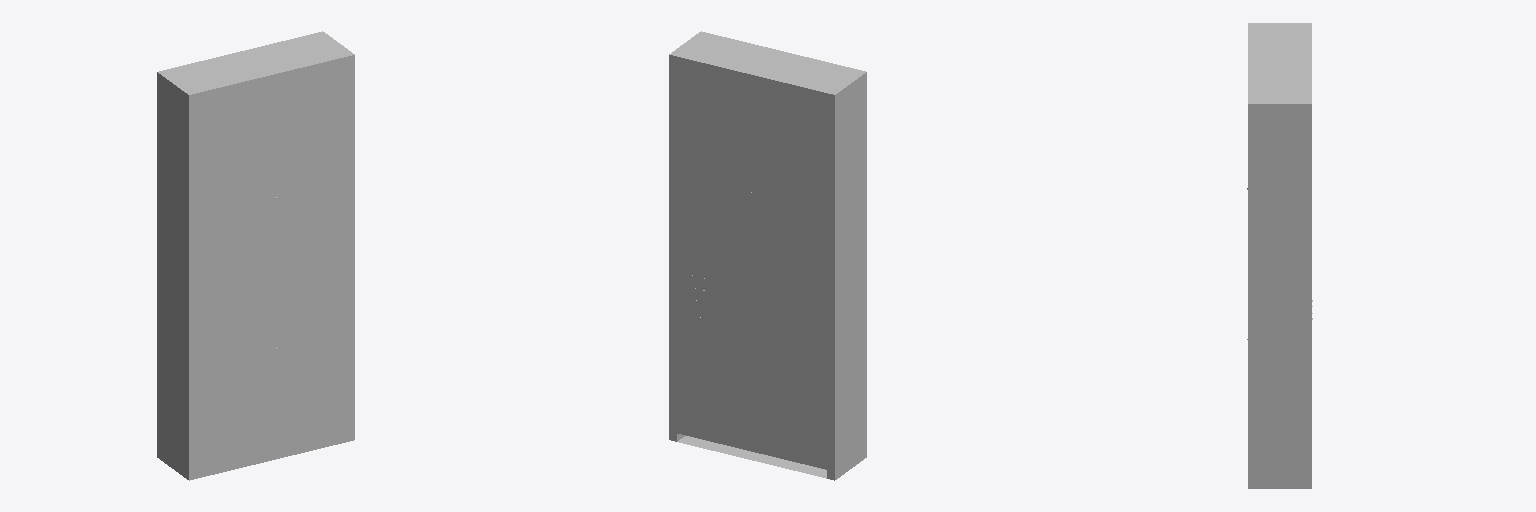
Rendered from room.obj.
The picture shows the model from 3 angles: view 1: azimuth 30°, elevation 25°; view 2: azimuth 150°, elevation 25°; view 3: azimuth 270°, elevation 25°; orthographic projection.
Parts seen in each view (by area): view 1: S_RoomCeiling, S_RoomWalls.001; view 2: S_RoomFloor, S_RoomWalls.001; view 3: S_RoomWalls.001.
Boxes of the visible parts, box(x1,y1,x2,y2) form: S_RoomCeiling: box(195, 59, 350, 475); S_RoomWalls.001: box(157, 31, 354, 480); S_RoomFloor: box(673, 65, 830, 470); S_RoomWalls.001: box(669, 31, 866, 480); S_RoomWalls.001: box(1248, 23, 1311, 488).
Bounding box in the file's own units: 21.65 × 48 × 7.37.